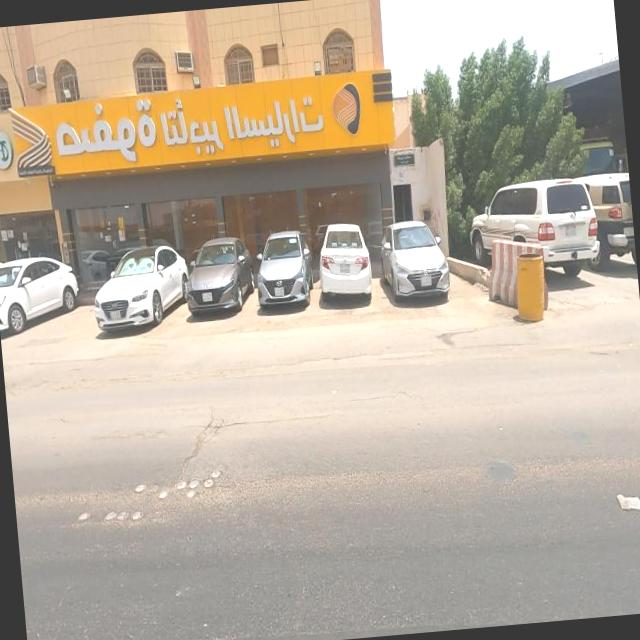debris: (580, 462, 640, 535)
